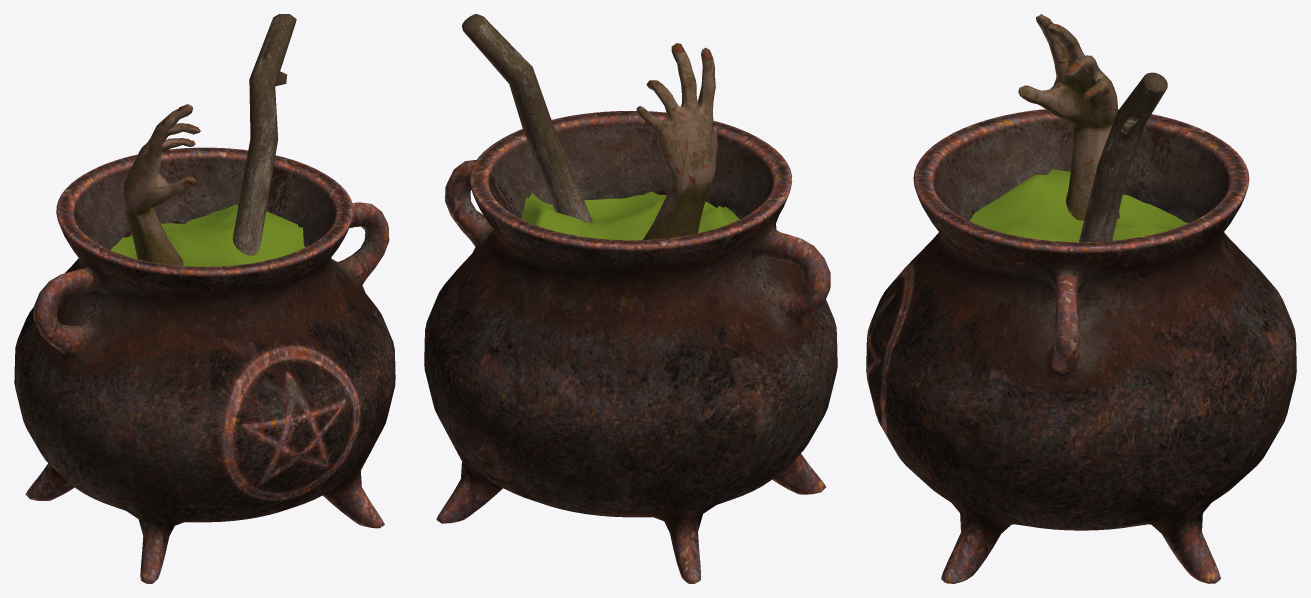
3 views of the same model, side by side, from view 1: azimuth 30°, elevation 25°; view 2: azimuth 150°, elevation 25°; view 3: azimuth 270°, elevation 25° (orthographic). The views are drawn at different scales.
Visible parts, largest first — view 1: cauldron_lp, spatula_lp, hand_lp, broth_lp; view 2: cauldron_lp, hand_lp, spatula_lp, broth_lp; view 3: cauldron_lp, hand_lp, broth_lp, spatula_lp.
Part boxes in pixels (box(x1,y1,x2,y2)): cauldron_lp: box(14, 147, 395, 583); spatula_lp: box(232, 14, 296, 255); hand_lp: box(122, 104, 200, 265); broth_lp: box(110, 204, 304, 266); cauldron_lp: box(424, 111, 837, 583); hand_lp: box(636, 43, 718, 239); spatula_lp: box(462, 14, 592, 222); broth_lp: box(521, 191, 739, 240); cauldron_lp: box(866, 109, 1296, 583); hand_lp: box(1018, 14, 1119, 220); broth_lp: box(970, 169, 1188, 241); spatula_lp: box(1079, 72, 1167, 242).
Bounding box in the file's own units: 135 × 164 × 126.
4 materials, 4 textured.
